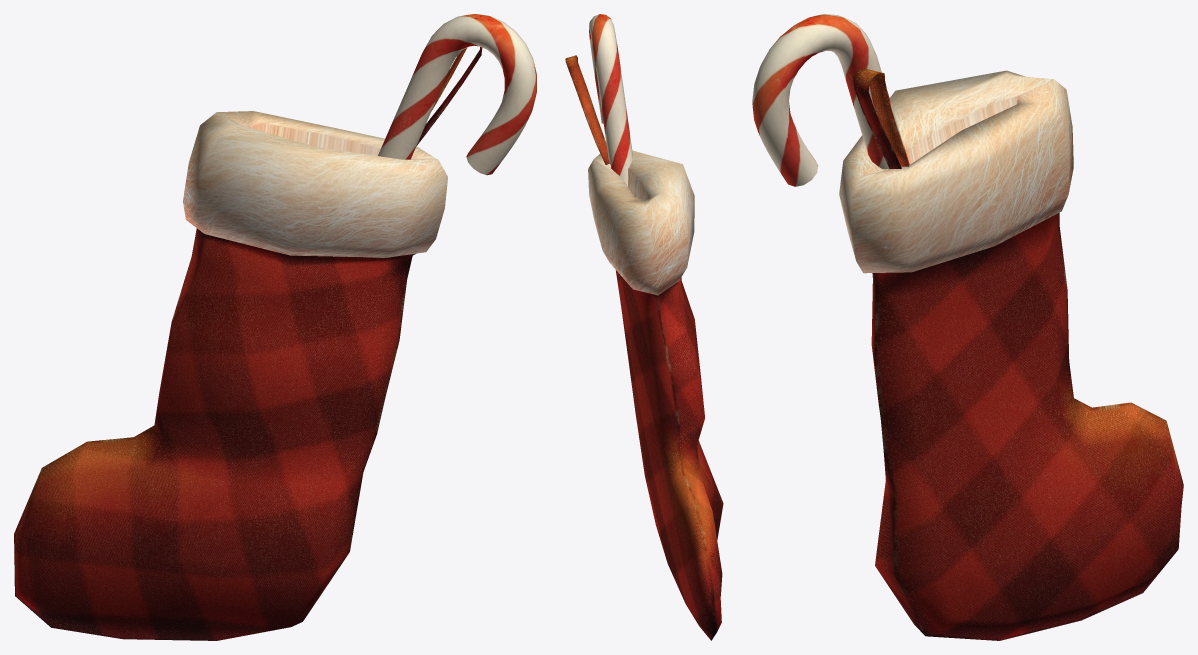
The model's file is christmas_stocking.glb.
3 renders of one model, left to right at view 1: azimuth 30°, elevation 25°; view 2: azimuth 150°, elevation 25°; view 3: azimuth 270°, elevation 25°, orthographic. The views are drawn at different scales.
Visible parts, largest first — view 1: Cube_Stocking_0_4_7; view 2: Cube_Stocking_0_4_7; view 3: Cube_Stocking_0_4_7.
Boxes of the visible parts, box(x1,y1,x2,y2) form: Cube_Stocking_0_4_7: box(14, 14, 536, 640); Cube_Stocking_0_4_7: box(565, 14, 723, 640); Cube_Stocking_0_4_7: box(752, 14, 1183, 640).
Size of the model in its own units: 0.567 by 1.03 by 0.5436.
1 material, 1 textured.
